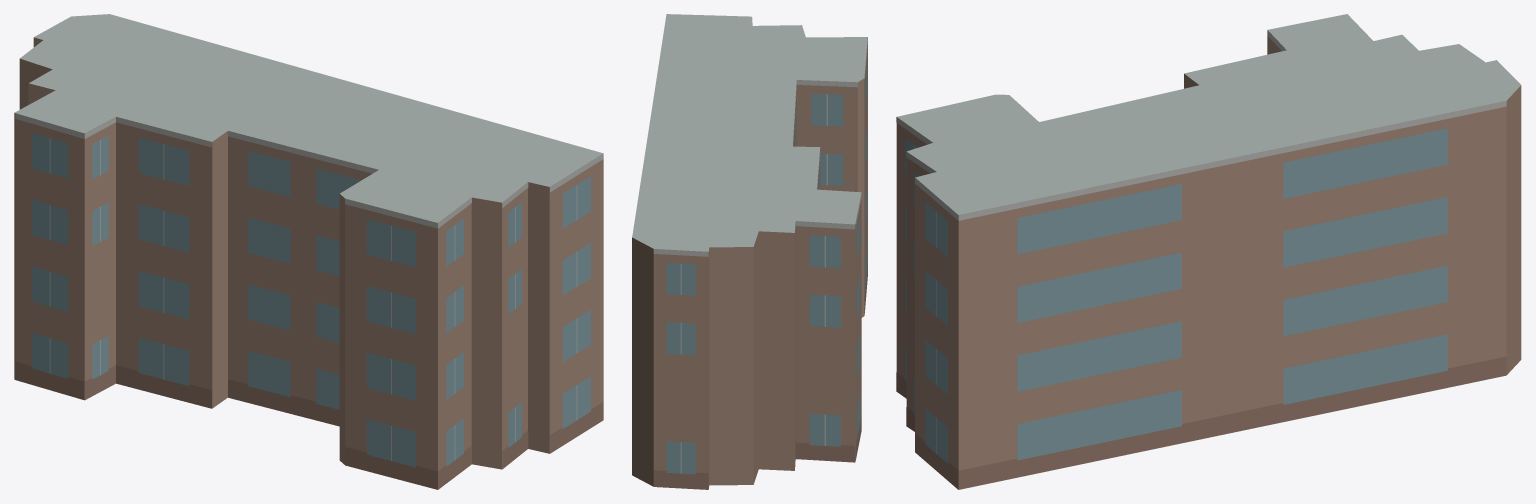
The model's file is survey-upis-32980343.glb.
3 renders of one model, left to right at view 1: azimuth 30°, elevation 25°; view 2: azimuth 150°, elevation 25°; view 3: azimuth 270°, elevation 25°, orthographic. The views are drawn at different scales.
Parts seen in each view (by area): view 1: survey-upis-32980343.tmp; view 2: survey-upis-32980343.tmp; view 3: survey-upis-32980343.tmp.
Boxes of the visible parts, left/top/right/bottom form: survey-upis-32980343.tmp: left=14, top=14, right=603, bottom=489; survey-upis-32980343.tmp: left=632, top=14, right=867, bottom=489; survey-upis-32980343.tmp: left=896, top=14, right=1521, bottom=489.
Size of the model in its own units: 18.22 by 11.6 by 23.91.
